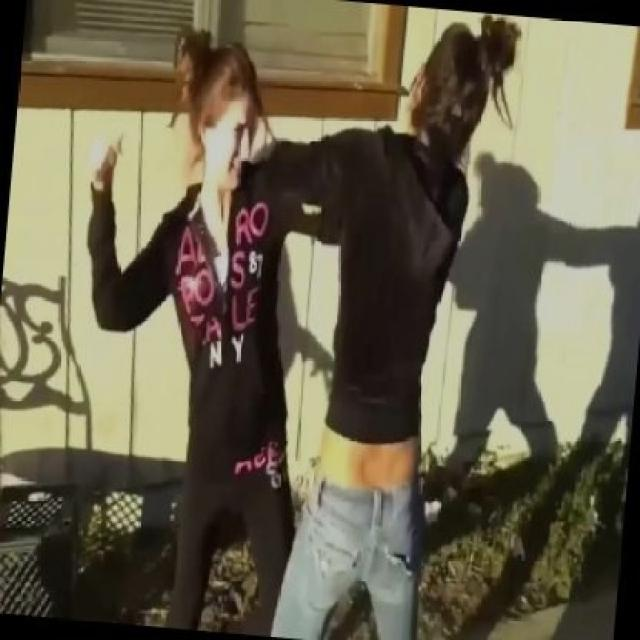fight: (76, 9, 518, 640)
